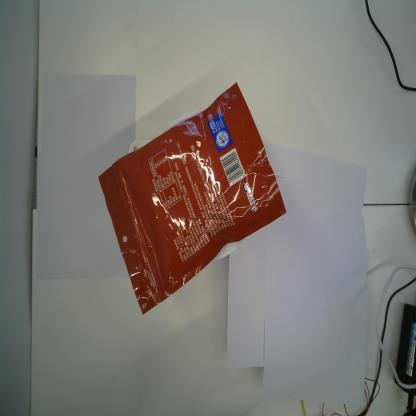Dried Food: (98, 81, 287, 317)
